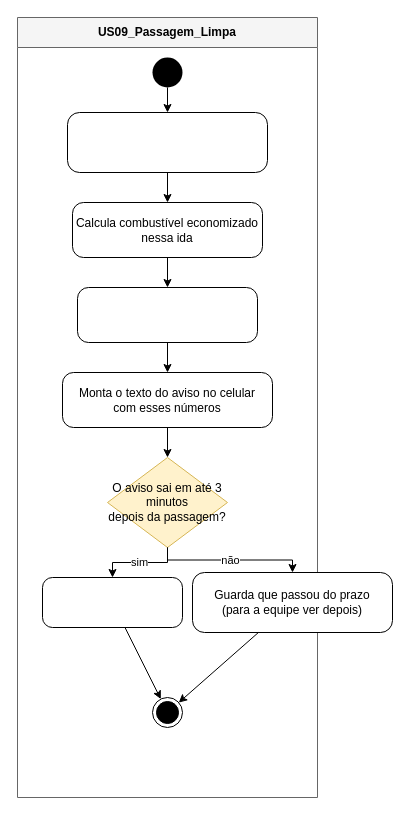
Image size: 410x815. Some labels were removed from this diagram. Here are the shapes that lost their labels. From the top down, the centre of each, then its label:
(x=167, y=142): O sistema confirma a passagem (pedágio ou estacionamento)
(x=167, y=314): Calcula CO2 evitado nessa ida
(x=112, y=602): Envia a notificação
